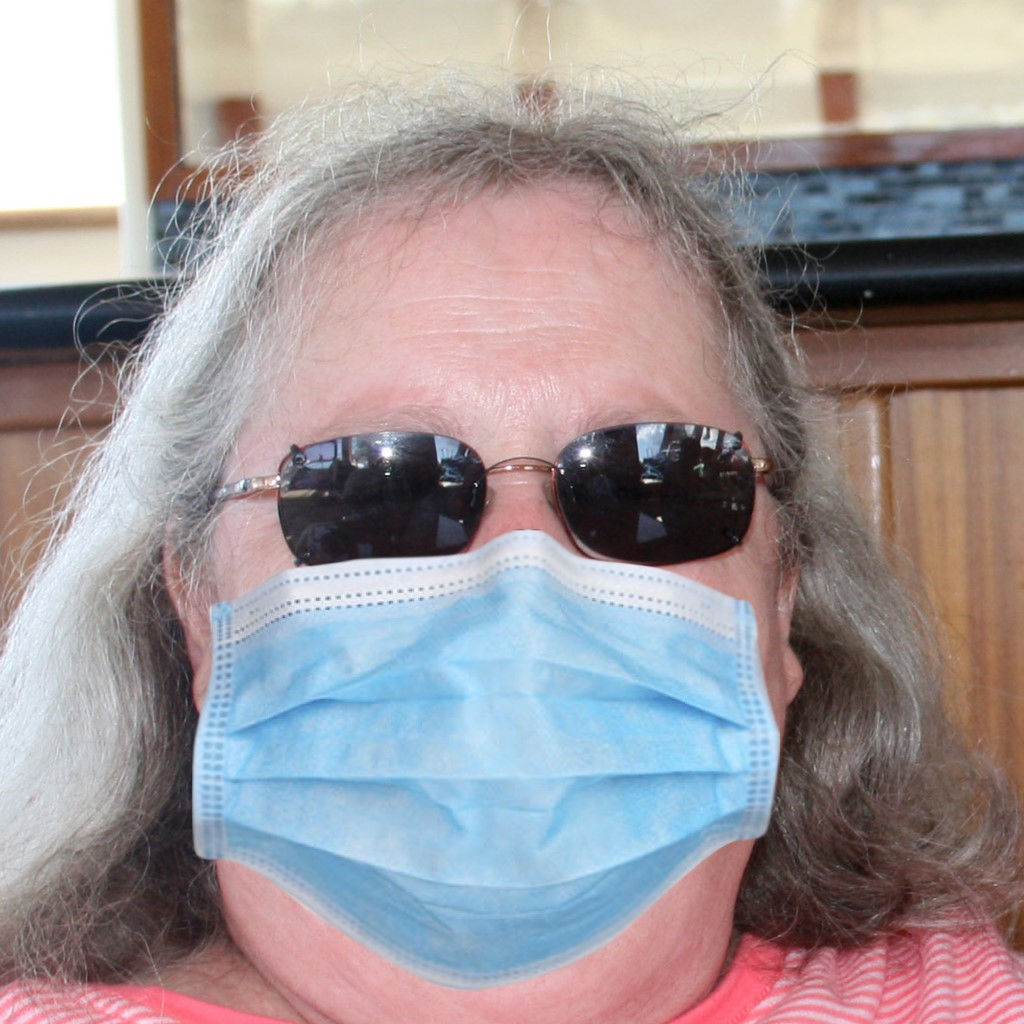con_mascara: (167, 130, 809, 1014)
